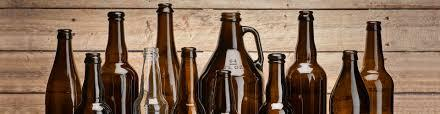Glass bottle: (1, 1, 440, 114)
